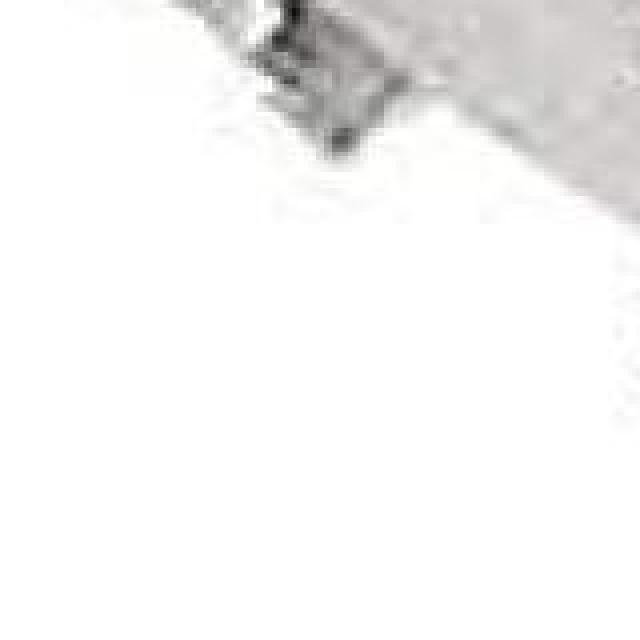potentiometer: (124, 0, 640, 100)
